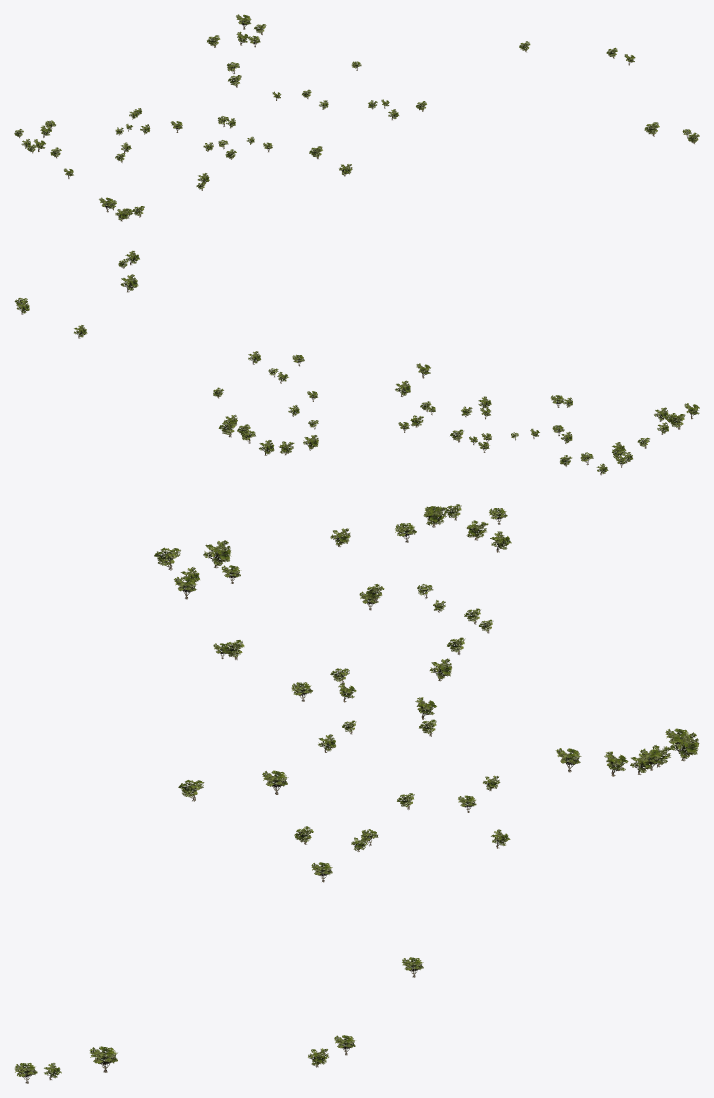
File: Arbol06.glb
3 views of the same model, one above another, from view 1: azimuth 30°, elevation 25°; view 2: azimuth 150°, elevation 25°; view 3: azimuth 270°, elevation 25° (orthographic). The views are drawn at different scales.
Parts seen in each view (by area): view 1: Arbol06Web; view 2: Arbol06Web; view 3: Arbol06Web.
Boxes of the visible parts, x1,y1,x2,y2 form: Arbol06Web: (14, 14, 699, 221); Arbol06Web: (14, 250, 699, 475); Arbol06Web: (14, 504, 699, 1083).
Size of the model in its own units: 297 by 31.83 by 169.
1 material, 1 textured.
